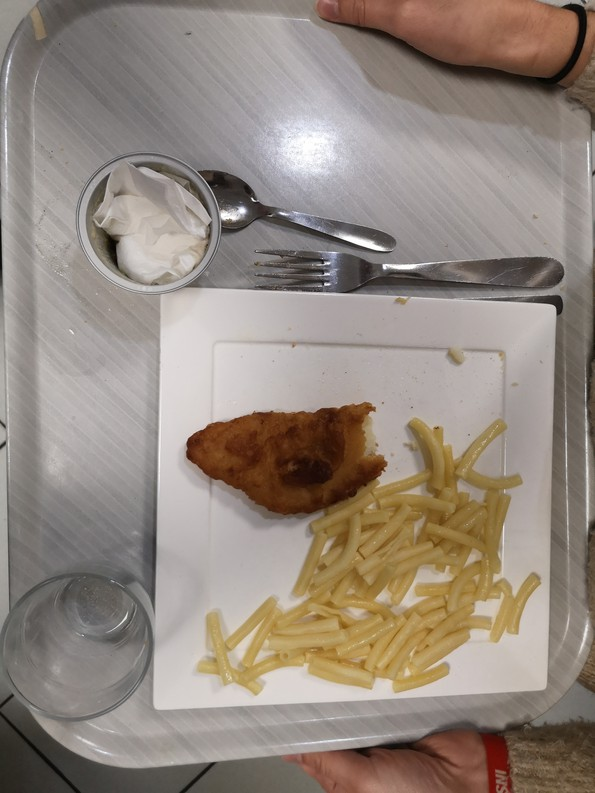cup: (1, 558, 168, 725)
cutlery: (199, 168, 567, 302)
orga: (193, 532, 507, 687), (184, 399, 388, 523), (398, 411, 516, 542)
trash: (67, 141, 233, 314)
